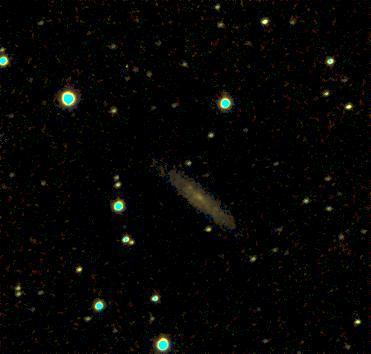star: (176, 172, 206, 202)
